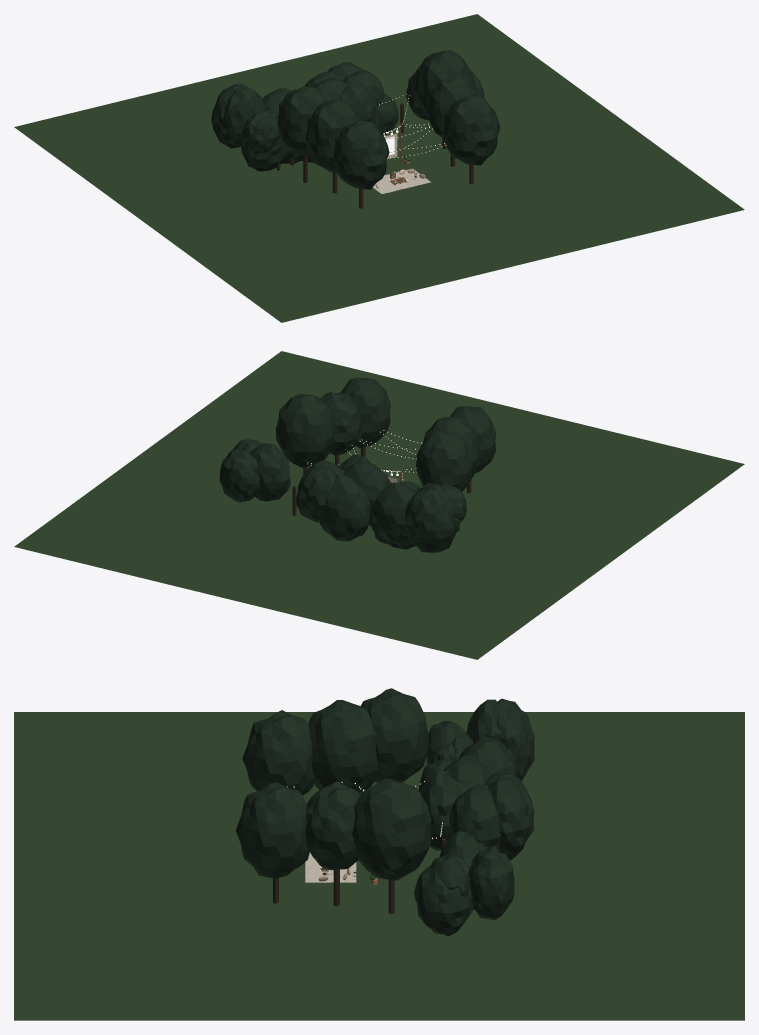
File: picnic-scene.glb
The picture shows the model from 3 angles, top to bottom: view 1: azimuth 30°, elevation 25°; view 2: azimuth 150°, elevation 25°; view 3: azimuth 270°, elevation 25°; orthographic projection. The views are drawn at different scales.
Parts seen in each view (by area): view 1: Ground, TreeTall.001, TreeTall, TreeTall.002, TreeTall.004, TreeTall.005, Tree.014, TreeTall.003, Tree.002, Tree.011, Tree.005, Tree.023 (+4 smaller); view 2: Ground, TreeTall.005, TreeTall.004, Tree.023, Tree.013, TreeTall.001, Tree.022, Tree.003, Tree.012, TreeTall.003, Tree.018, TreeTall (+2 smaller); view 3: Ground, TreeTall.005, TreeTall.001, TreeTall.002, TreeTall, TreeTall.004, TreeTall.003, Tree.022, Tree.004, Tree.018, Tree.009, Tree.023 (+8 smaller).
Part boxes in pixels (x1=…): Ground: x1=14, y1=14, x2=744, y2=322; TreeTall.001: x1=443, y1=95, x2=500, y2=165; TreeTall: x1=334, y1=120, x2=389, y2=189; TreeTall.002: x1=305, y1=99, x2=361, y2=172; TreeTall.004: x1=277, y1=86, x2=328, y2=156; TreeTall.005: x1=414, y1=50, x2=474, y2=117; Tree.014: x1=221, y1=86, x2=266, y2=146; TreeTall.003: x1=428, y1=77, x2=475, y2=138; Tree.002: x1=242, y1=111, x2=280, y2=153; Tree.011: x1=340, y1=84, x2=376, y2=123; Tree.005: x1=241, y1=110, x2=290, y2=171; Tree.023: x1=211, y1=83, x2=247, y2=148; Ground: x1=14, y1=351, x2=744, y2=659; TreeTall.005: x1=275, y1=394, x2=334, y2=467; TreeTall.004: x1=416, y1=430, x2=471, y2=491; Tree.023: x1=404, y1=487, x2=454, y2=552; Tree.013: x1=319, y1=474, x2=370, y2=541; TreeTall.001: x1=340, y1=377, x2=390, y2=448; Tree.022: x1=219, y1=449, x2=259, y2=502; Tree.003: x1=373, y1=482, x2=416, y2=544; Tree.012: x1=249, y1=443, x2=290, y2=501; TreeTall.003: x1=320, y1=391, x2=362, y2=455; Tree.018: x1=297, y1=466, x2=336, y2=522; TreeTall: x1=450, y1=406, x2=496, y2=473; Ground: x1=14, y1=712, x2=744, y2=1020; TreeTall.005: x1=352, y1=778, x2=431, y2=880; TreeTall.001: x1=236, y1=782, x2=309, y2=878; TreeTall.002: x1=308, y1=700, x2=377, y2=793; TreeTall: x1=242, y1=710, x2=314, y2=795; TreeTall.004: x1=361, y1=688, x2=428, y2=782; TreeTall.003: x1=305, y1=781, x2=360, y2=870; Tree.022: x1=469, y1=845, x2=514, y2=920; Tree.004: x1=414, y1=865, x2=473, y2=936; Tree.018: x1=488, y1=777, x2=534, y2=856; Tree.009: x1=449, y1=784, x2=501, y2=851; Tree.023: x1=496, y1=698, x2=534, y2=780.
Size of the model in its own units: 60 by 12.72 by 60.
